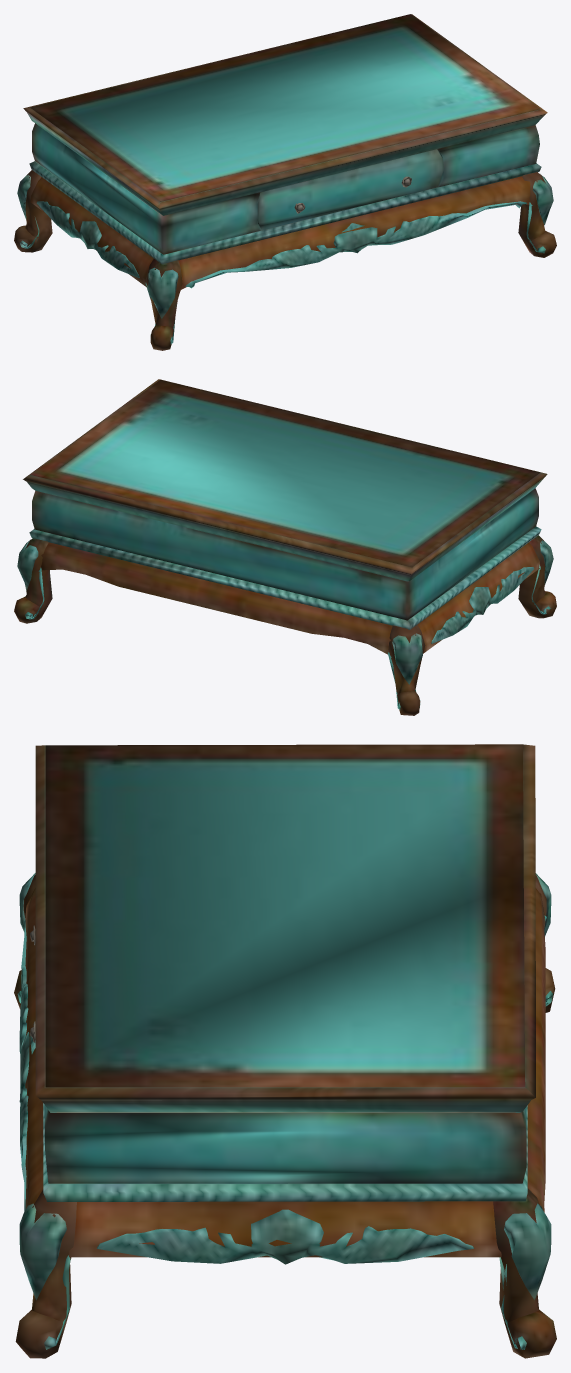
The model's file is coffeetable_01.glb.
3 renders of one model, top to bottom at view 1: azimuth 30°, elevation 25°; view 2: azimuth 150°, elevation 25°; view 3: azimuth 270°, elevation 25°, orthographic. The views are drawn at different scales.
Visible parts, largest first — view 1: CoffeeTable_01; view 2: CoffeeTable_01; view 3: CoffeeTable_01.
Part boxes in pixels (x1=…): CoffeeTable_01: x1=14, y1=14, x2=556, y2=350; CoffeeTable_01: x1=14, y1=379, x2=556, y2=715; CoffeeTable_01: x1=14, y1=744, x2=556, y2=1358.
Bounding box in the file's own units: 1.54 × 0.5212 × 0.9728.
1 material, 1 textured.
